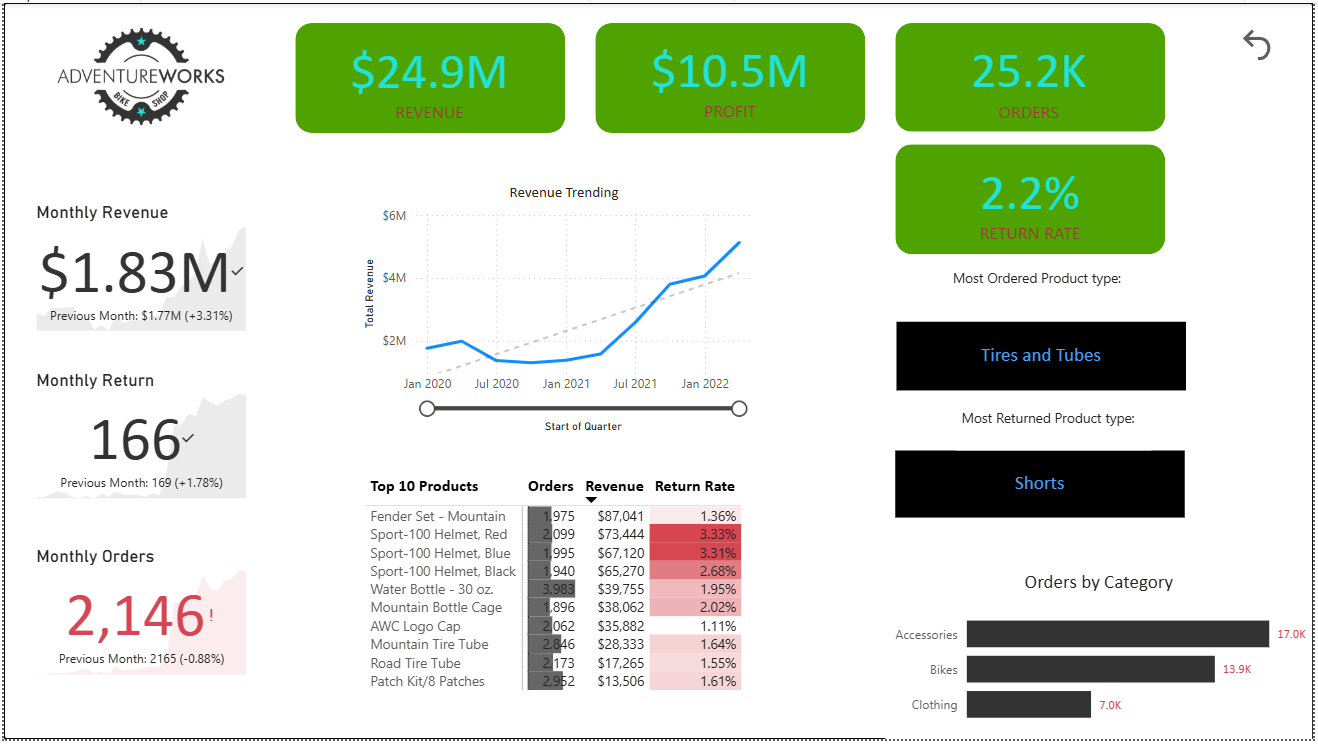

The page's visual inventory and layout, read from the dashboard file:
{"tool":"powerbi","page":{"name":"Exec Dashboard","canvas":[1280,720],"ordinal":0},"visuals":[{"type":"image","box":[0,17.1,269,110.1],"z":0},{"type":"shape","box":[284.9,19.6,264.1,107.6],"z":1000},{"type":"shape","box":[578.4,19.6,264.1,107.6],"z":2000},{"type":"shape","box":[871.9,138.2,264.1,107.6],"z":3000},{"type":"shape","box":[871.9,19.6,264.1,106.4],"z":4000},{"type":"card","fields":{"Values":["Measure Table.Total Revenue"]},"box":[284.2,20.2,265.5,105.3],"z":5000},{"type":"card","fields":{"Values":["Measure Table.Total Profit"]},"box":[577.9,19.9,264,105.3],"z":6000},{"type":"card","fields":{"Values":["Measure Table.Total Orders"]},"box":[870.8,19.9,264,106.8],"z":7000},{"type":"card","fields":{"Values":["Measure Table.Return Rate"]},"box":[871.4,138.5,264,106.8],"z":8000},{"type":"lineChart","title":"Revenue Trending","fields":{"Category":["Calendar Lookup.Year","Calendar Lookup.Start of Quarter","Calendar Lookup.Month"],"Y":["Measure Table.Total Revenue"]},"box":[347.7,176,401.1,248.2],"z":9000},{"type":"kpi","title":"Monthly Revenue","fields":{"Goal":["Measure Table.Previous Month Revenue"],"Indicator":["Measure Table.Total Revenue"],"TrendLine":["Calendar Lookup.Start of Month"]},"box":[27.4,194.8,215,131.3],"z":10000},{"type":"kpi","title":"Monthly Orders","fields":{"Goal":["Measure Table.Previous Month Orders"],"Indicator":["Measure Table.Total Orders"],"TrendLine":["Calendar Lookup.Start of Month"]},"box":[26.7,530.4,215.4,131.7],"z":11000},{"type":"kpi","title":"Monthly Return","fields":{"Goal":["Measure Table.Previous Month Returns"],"Indicator":["Measure Table.Total Returns"],"TrendLine":["Calendar Lookup.Start of Month"]},"box":[26.7,357.7,215.4,131.7],"z":12000},{"type":"clusteredBarChart","title":"Orders by Category","fields":{"Category":["Product Categories Lookup.CategoryName"],"Y":["Measure Table.Total Orders"]},"box":[861.7,555,418,164.5],"z":13000},{"type":"pivotTable","fields":{"Rows":["Product Lookup.ProductName"],"Values":["Measure Table.Total Orders","Measure Table.Total Revenue","Measure Table.Return Rate"]},"box":[348.8,457.4,402.2,238.5],"z":14000},{"type":"card","fields":{"Values":["Min(Product Subcategories Lookup.SubcategoryName)"]},"box":[873.2,311.5,283,66.8],"z":15000},{"type":"textbox","box":[923.7,254.5,190.4,46.3],"z":16000},{"type":"card","fields":{"Values":["Min(Product Subcategories Lookup.SubcategoryName)"]},"box":[871.8,438,283,65.4],"z":17000},{"type":"textbox","box":[932.3,391.2,190.4,46.3],"z":18000},{"type":"actionButton","box":[1205.5,20.7,41.4,40],"z":19000}]}

Visuals, with their boxes in screenshot pixels (x1, y1, x2, y2), scaled from the page's 1280x720 canvas onto the 1318x746 screenshot:
image: BBox(0, 18, 277, 132)
shape: BBox(293, 20, 565, 132)
shape: BBox(596, 20, 868, 132)
shape: BBox(898, 143, 1170, 255)
shape: BBox(898, 20, 1170, 131)
card - Measure Table.Total Revenue: BBox(293, 21, 566, 130)
card - Measure Table.Total Profit: BBox(595, 21, 867, 130)
card - Measure Table.Total Orders: BBox(897, 21, 1168, 131)
card - Measure Table.Return Rate: BBox(897, 144, 1169, 254)
"Revenue Trending" lineChart: BBox(358, 182, 771, 440)
"Monthly Revenue" kpi: BBox(28, 202, 250, 338)
"Monthly Orders" kpi: BBox(27, 550, 249, 686)
"Monthly Return" kpi: BBox(27, 371, 249, 507)
"Orders by Category" clusteredBarChart: BBox(887, 575, 1317, 745)
pivotTable - Product Lookup.ProductName x Measure Table.Total Orders: BBox(359, 474, 773, 721)
card - Min(Product Subcategories Lookup.SubcategoryName): BBox(899, 323, 1191, 392)
textbox: BBox(951, 264, 1147, 312)
card - Min(Product Subcategories Lookup.SubcategoryName): BBox(898, 454, 1189, 522)
textbox: BBox(960, 405, 1156, 453)
actionButton: BBox(1241, 21, 1284, 63)
